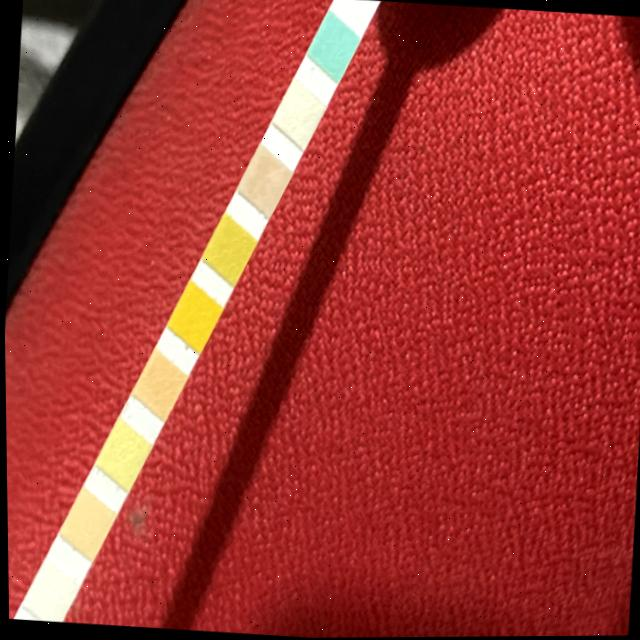Bilirubin: (280, 94, 314, 136)
Blood: (175, 298, 210, 338)
Glucose: (316, 24, 348, 69)
Ketone: (246, 160, 279, 202)
Nitrite: (30, 573, 64, 619)
Protein: (104, 433, 137, 479)
SpGravity: (210, 230, 243, 272)
Urobilinogen: (67, 502, 101, 548)
pH: (140, 366, 175, 406)
